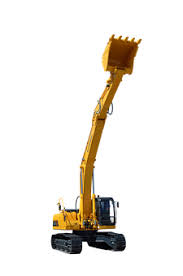excavator: (44, 28, 142, 255)
